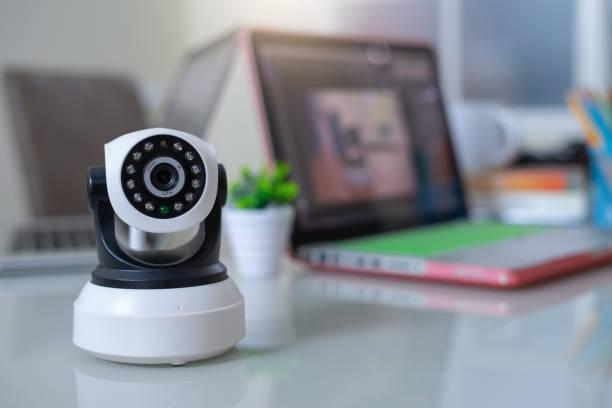camera: (73, 114, 238, 282)
